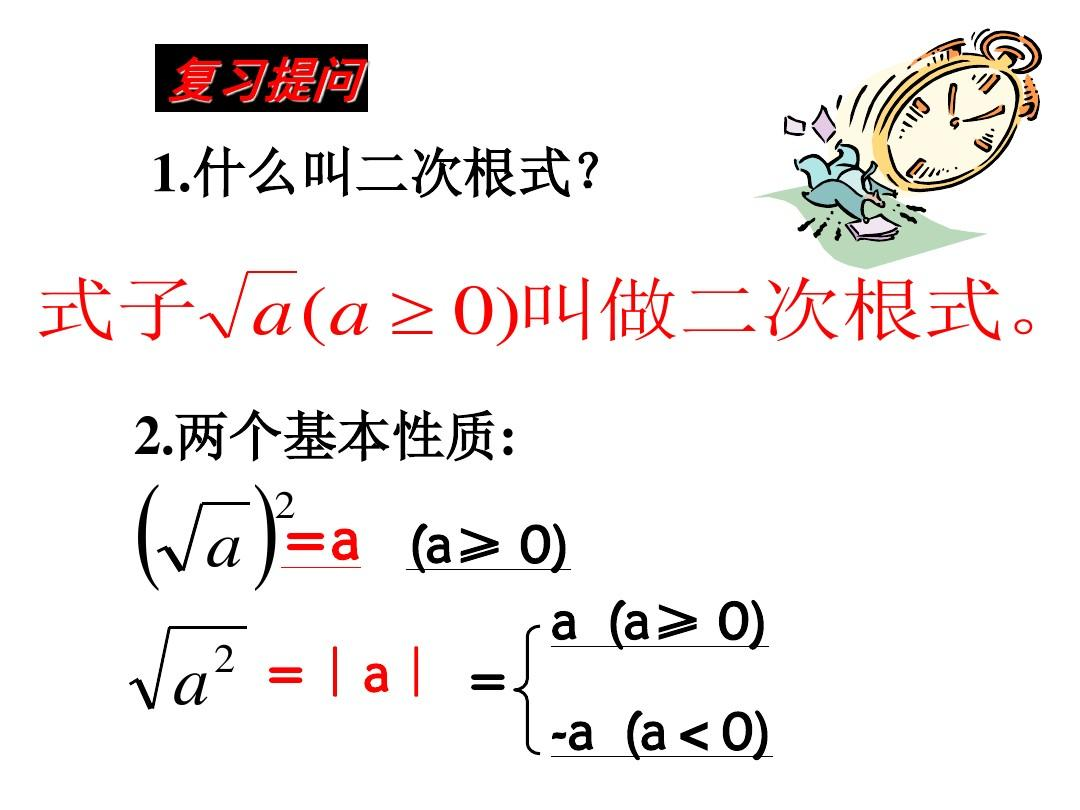sqrt: (126, 619, 253, 710), (204, 263, 305, 354), (150, 494, 252, 582)
square: (269, 487, 305, 527), (215, 643, 243, 673)
